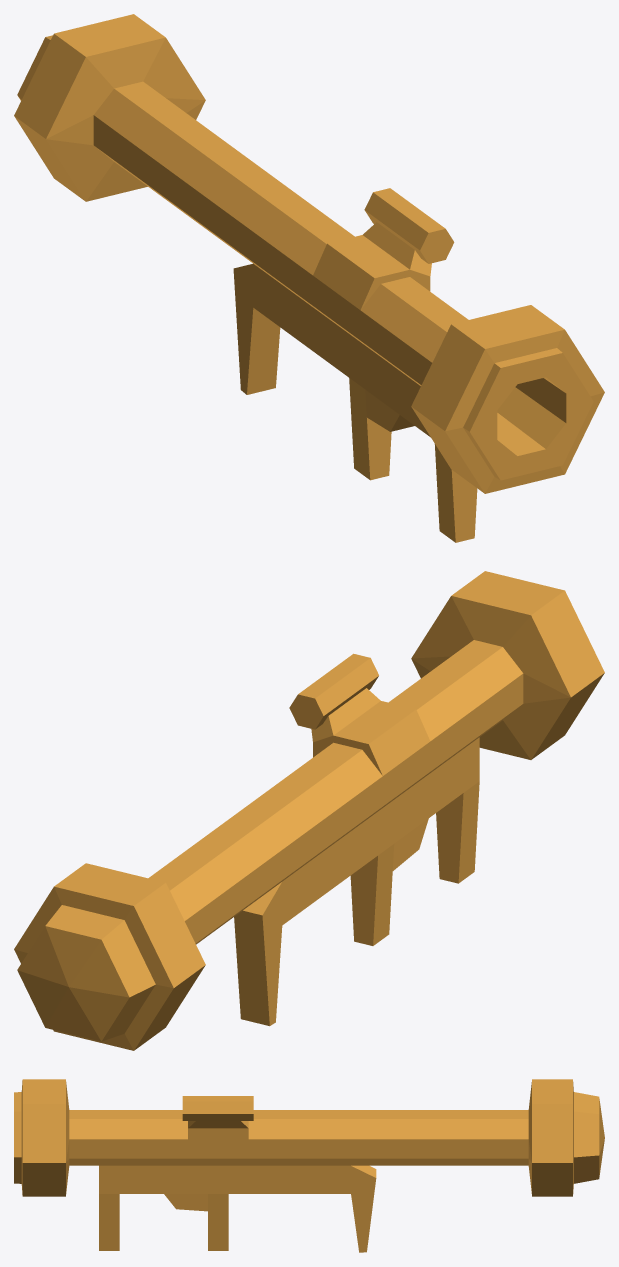
File: rocket-launcher.fbx
3 views of the same model, one above another, from view 1: azimuth 30°, elevation 25°; view 2: azimuth 150°, elevation 25°; view 3: azimuth 270°, elevation 25° (orthographic). The views are drawn at different scales.
Parts seen in each view (by area): view 1: rocket-launcher; view 2: rocket-launcher; view 3: rocket-launcher.
Part boxes in pixels (<box>): rocket-launcher: <box>14,14,604,542</box>; rocket-launcher: <box>14,571,604,1050</box>; rocket-launcher: <box>14,1079,604,1252</box>.
Bounding box in the file's own units: 0.2 × 0.3022 × 1.
